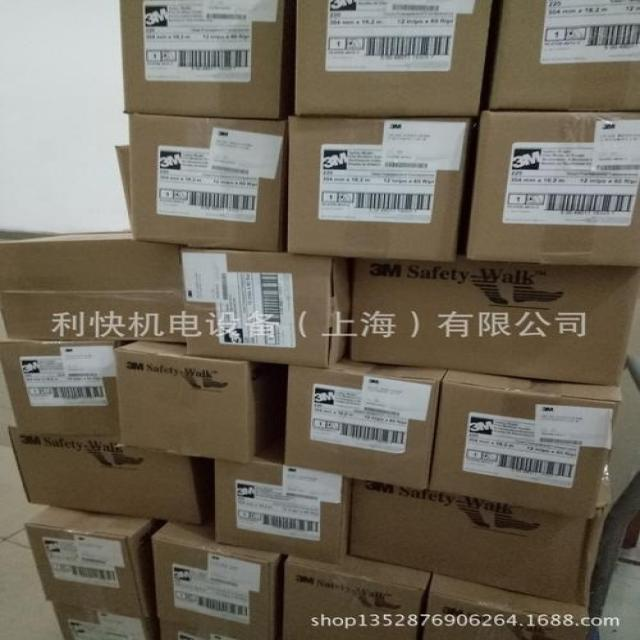box: (347, 259, 637, 387), (349, 476, 611, 606), (430, 369, 622, 520), (462, 111, 640, 270), (285, 118, 476, 262), (287, 0, 500, 119), (128, 113, 285, 251), (285, 352, 443, 489), (8, 425, 220, 525), (183, 249, 356, 370), (115, 342, 289, 462), (1, 230, 183, 344), (122, 0, 292, 121), (212, 438, 356, 565), (481, 1, 639, 113), (148, 515, 287, 638), (27, 504, 169, 621), (276, 555, 430, 640), (1, 338, 119, 438), (420, 574, 591, 640), (52, 604, 157, 639), (155, 619, 251, 639)
